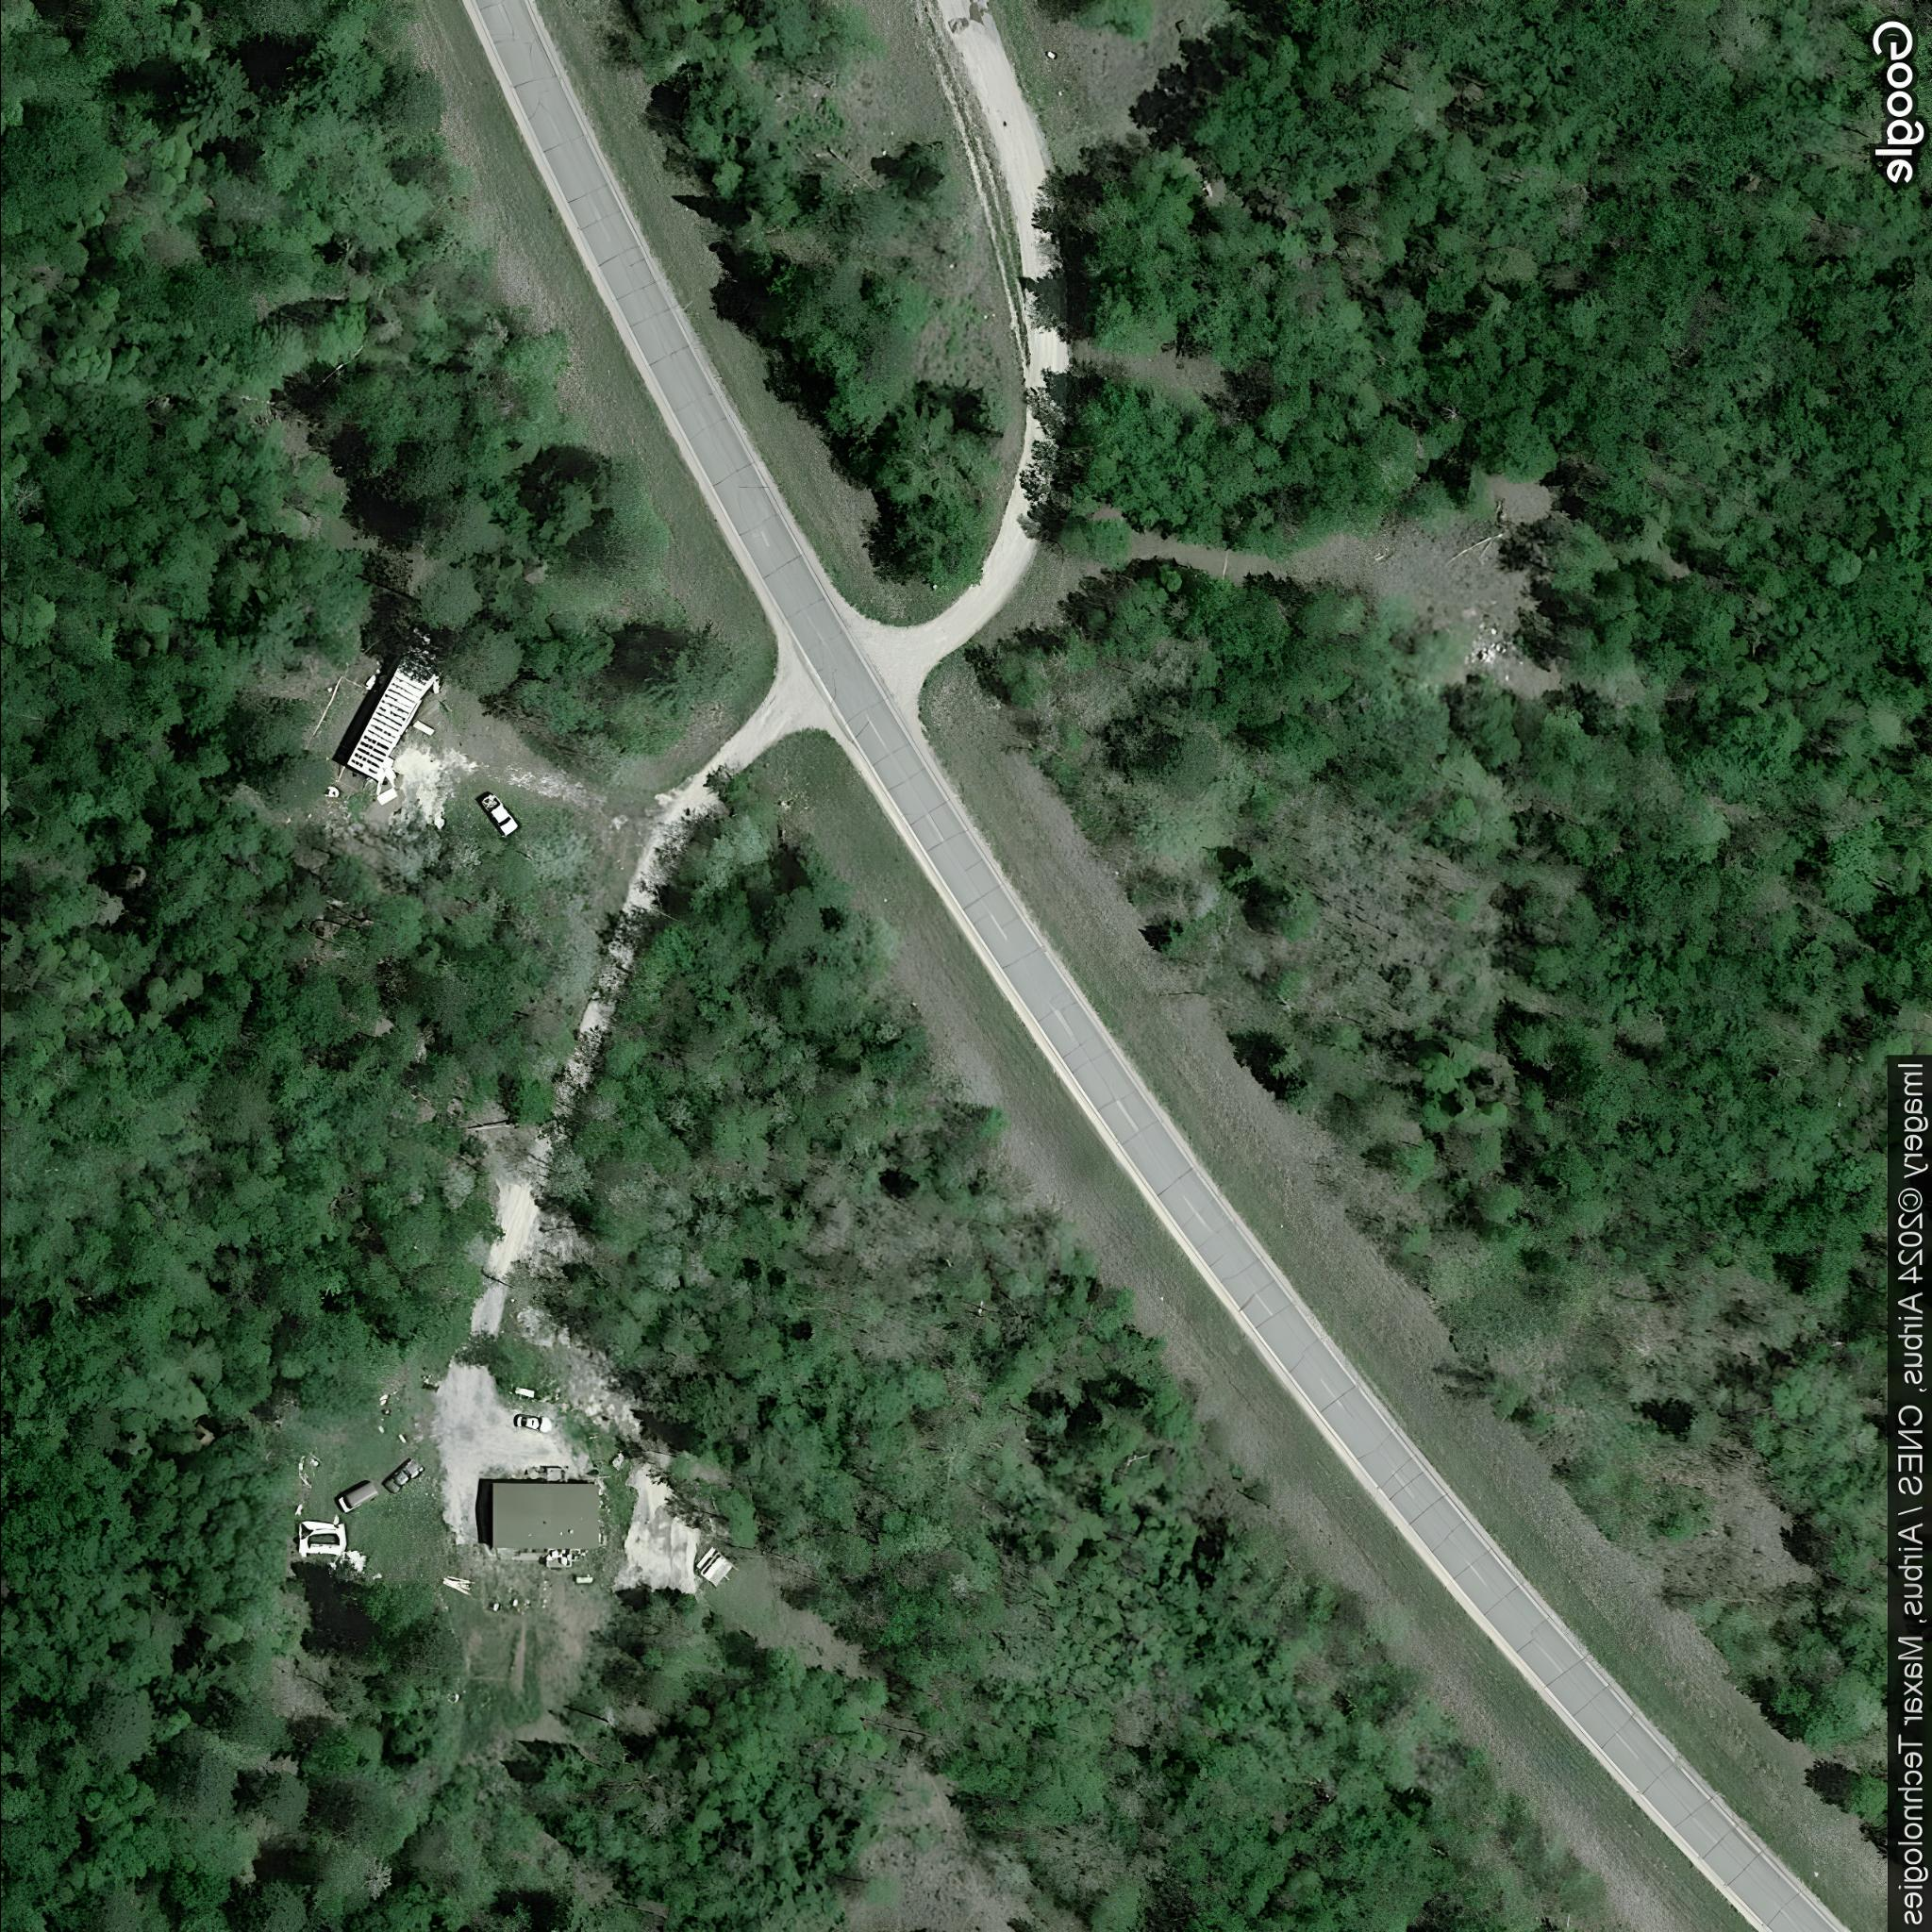House: (488, 1477, 602, 1552)
Propane: (510, 1385, 538, 1399), (568, 1573, 596, 1587)
Trailer: (343, 635, 446, 784)
